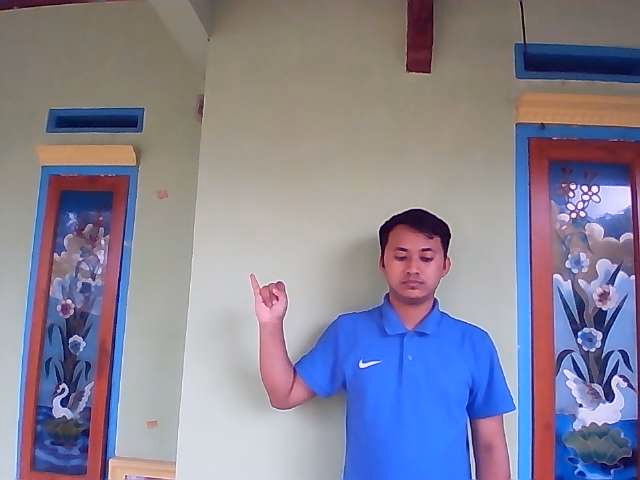I: (249, 272, 289, 323)
